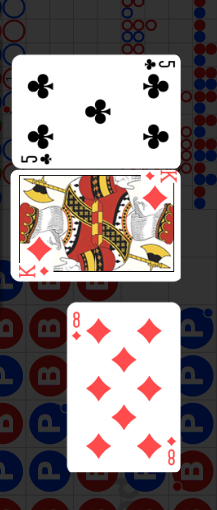5C: (19, 152, 54, 166)
8D: (165, 434, 177, 466), (71, 311, 82, 342)
